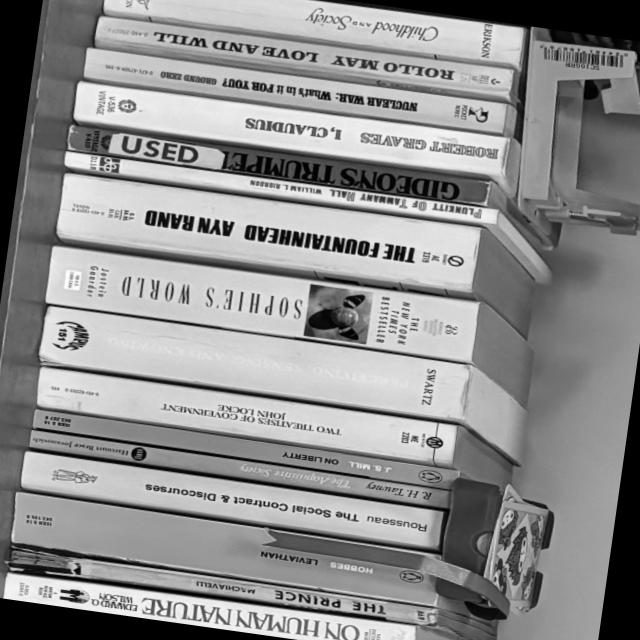book: (32, 300, 536, 466), (59, 120, 562, 286), (39, 243, 538, 403), (51, 173, 541, 335), (61, 122, 564, 252), (31, 364, 516, 488), (7, 492, 475, 615), (69, 76, 522, 200), (4, 546, 498, 640), (17, 450, 445, 553), (93, 11, 523, 107), (81, 47, 518, 138), (31, 408, 459, 491), (27, 428, 451, 511), (2, 570, 456, 640), (102, 0, 527, 72)
